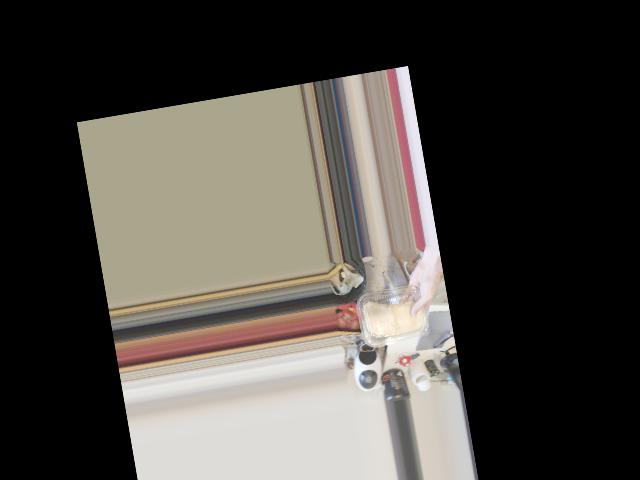cheese: (359, 280, 429, 353)
